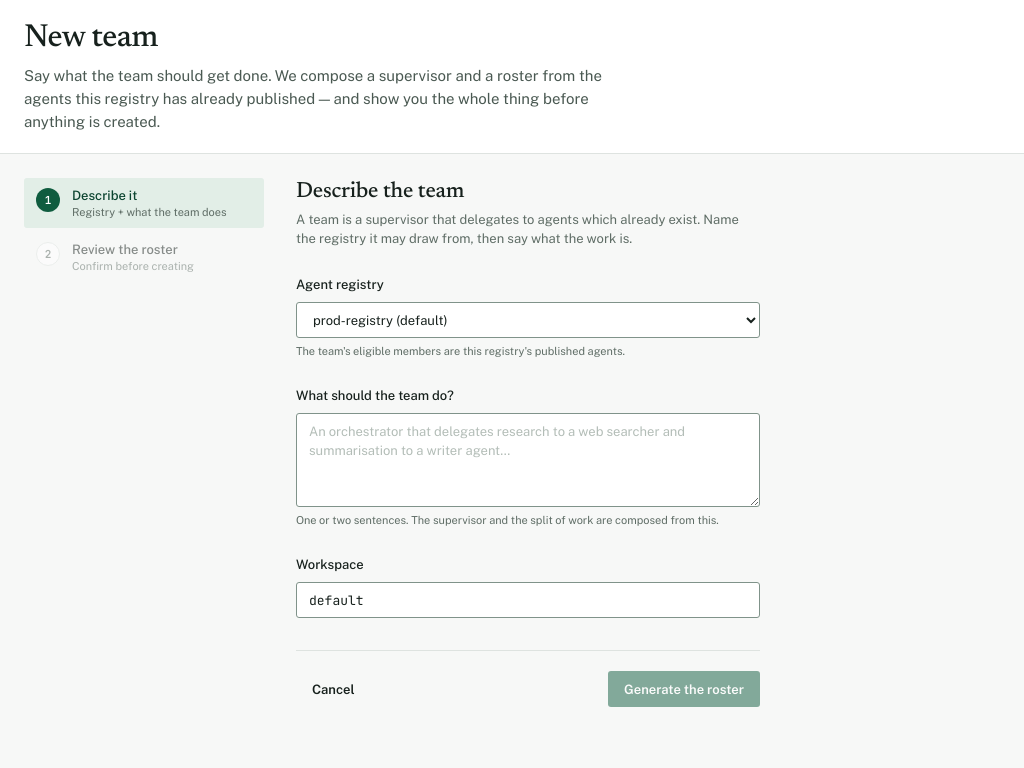
Test: CreateTeamPage (m71.7) › marks the generated roster as a proposal, not a fact
Replace the text in the text box with test id "team-description" with "An orchestrator with a researcher". click: (528, 460)
box: [296,413,760,507]
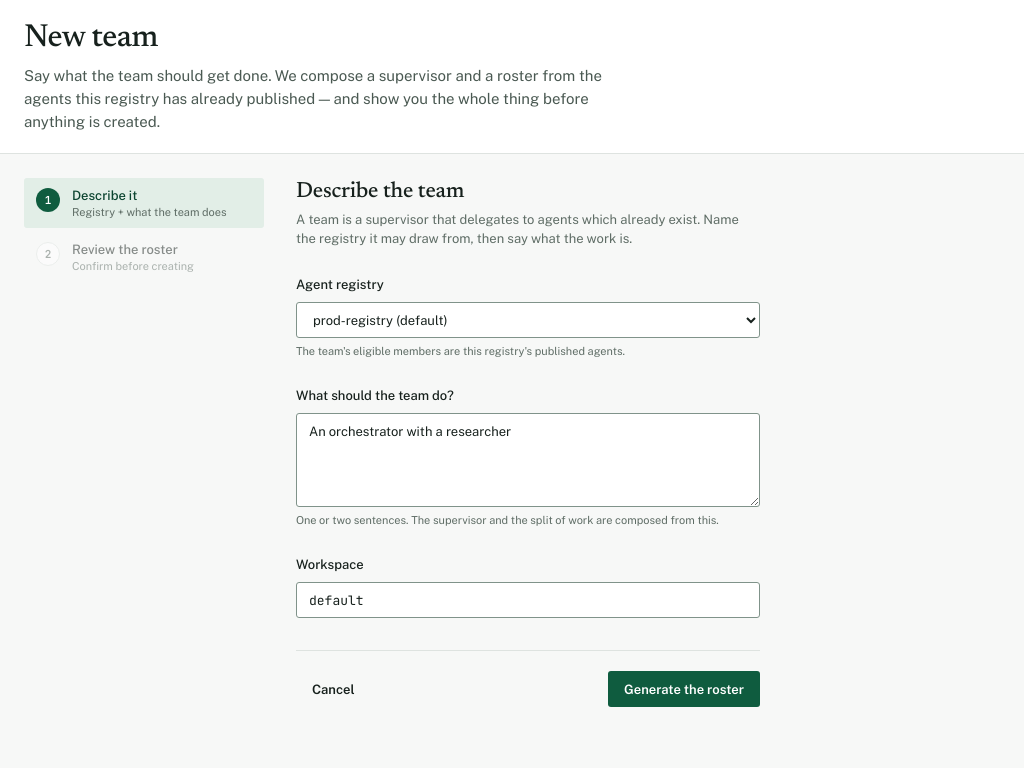
Click the button "Generate the roster". click: (684, 689)
box: [608,671,760,707]
(page scrolled)
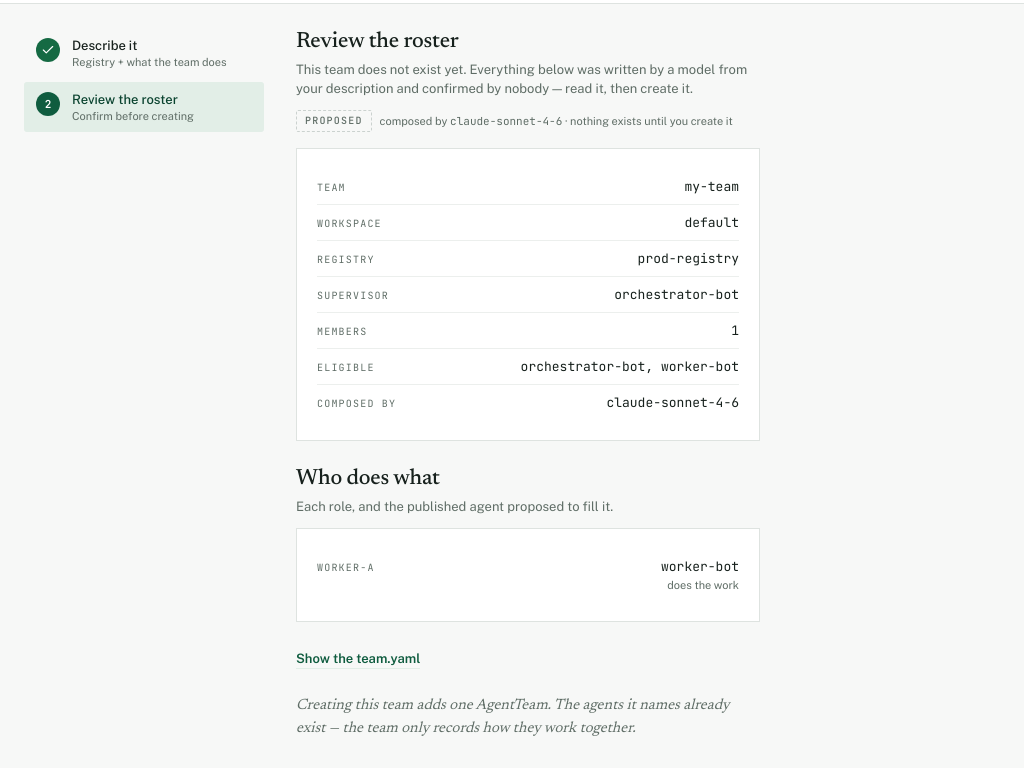
expect the element with test id "roster-review" shows "proposed": met, box [305,114,363,127]
expect the element with test id "roster-review" shows "does not exist yet": met, box [296,62,747,96]
expect the element with test id "roster-review" shows "claude-sonnet-4-6": met, box [450,114,562,128]
